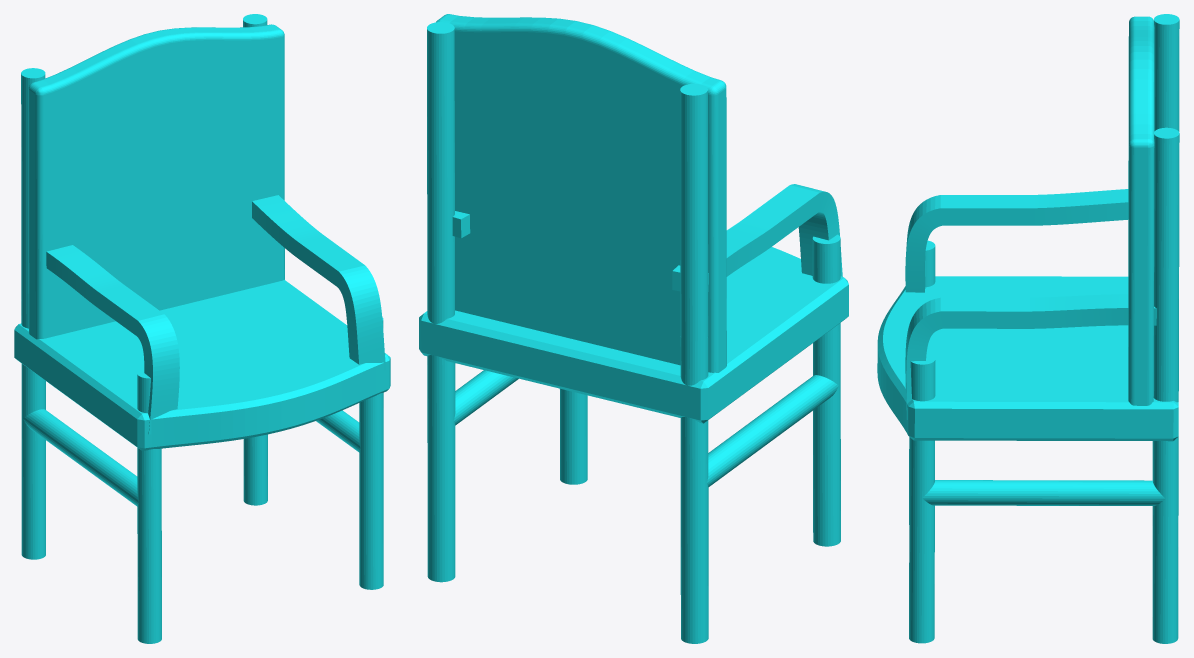
The model's file is chair.glb.
3 renders of one model, left to right at view 1: azimuth 30°, elevation 25°; view 2: azimuth 150°, elevation 25°; view 3: azimuth 270°, elevation 25°, orthographic. The views are drawn at different scales.
Parts seen in each view (by area): view 1: back decoration_7, seat_8, arm_11, arm_10, leg_2, leg_4, leg_1, leg decoration_5, back_9, leg_3, leg decoration_6; view 2: back decoration_7, seat_8, back_9, leg_3, leg_1, back_12, leg_2, arm_10, leg decoration_5, leg_4, leg decoration_6; view 3: seat_8, back decoration_7, arm_10, arm_11, back_12, leg_4, leg decoration_6, leg_3, back_9, leg_2.
Part boxes in pixels (left/top/right/bottom): back decoration_7: left=28, top=24, right=284, bottom=339; seat_8: left=14, top=279, right=390, bottom=450; arm_11: left=252, top=195, right=386, bottom=376; arm_10: left=46, top=245, right=179, bottom=434; leg_2: left=137, top=369, right=161, bottom=643; leg_4: left=359, top=317, right=383, bottom=589; leg_1: left=21, top=290, right=45, bottom=559; leg decoration_5: left=23, top=409, right=138, bottom=506; back_9: left=21, top=68, right=45, bottom=328; leg_3: left=243, top=434, right=267, bottom=505; leg decoration_6: left=316, top=410, right=360, bottom=452; back decoration_7: left=436, top=14, right=726, bottom=372; seat_8: left=419, top=247, right=848, bottom=423; back_9: left=680, top=83, right=708, bottom=385; leg_3: left=427, top=275, right=455, bottom=582; leg_1: left=680, top=336, right=708, bottom=643; back_12: left=427, top=22, right=454, bottom=314; leg_2: left=812, top=234, right=840, bottom=546; arm_10: left=672, top=184, right=842, bottom=291; leg decoration_5: left=706, top=375, right=838, bottom=486; leg_4: left=560, top=388, right=587, bottom=484; leg decoration_6: left=453, top=370, right=518, bottom=425; seat_8: left=877, top=276, right=1178, bottom=441; back decoration_7: left=1128, top=16, right=1154, bottom=405; arm_10: left=905, top=189, right=1128, bottom=292; arm_11: left=905, top=294, right=1156, bottom=419; back_12: left=1153, top=127, right=1179, bottom=401; leg_4: left=909, top=354, right=935, bottom=643; leg decoration_6: left=922, top=480, right=1165, bottom=505; leg_3: left=1152, top=360, right=1178, bottom=643; back_9: left=1154, top=14, right=1179, bottom=131; leg_2: left=909, top=240, right=935, bottom=524.
Size of the model in its own units: 0.48 by 0.9058 by 0.4712.
